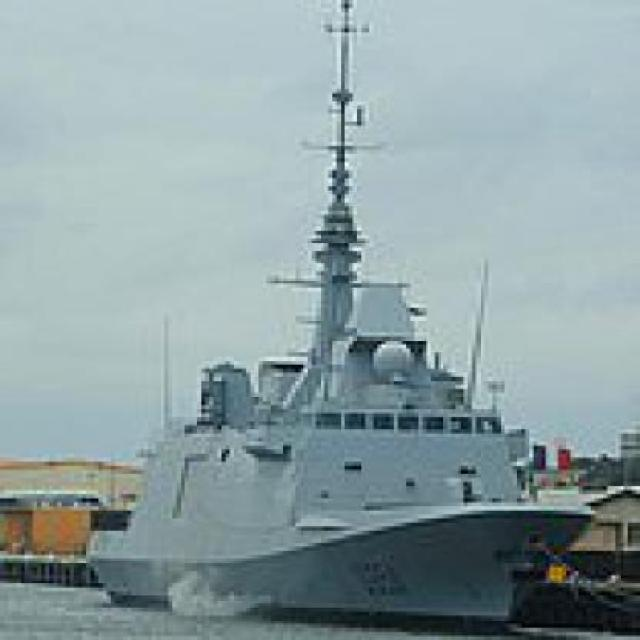warship2: (95, 1, 555, 626)
